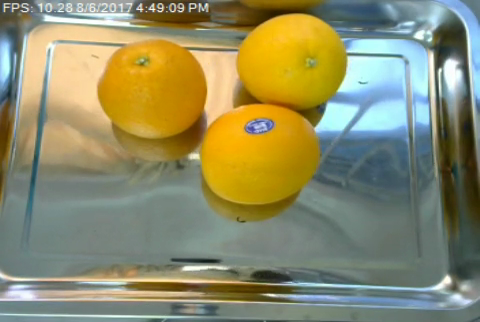Orange: (201, 102, 319, 204), (95, 40, 208, 138), (235, 13, 347, 111)
